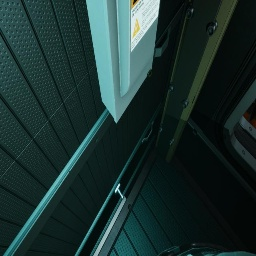SafetySwitchPanel ,: (86, 0, 160, 124)
